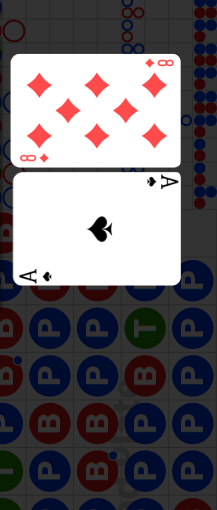8D: (143, 58, 175, 69)
AS: (18, 267, 55, 283)
